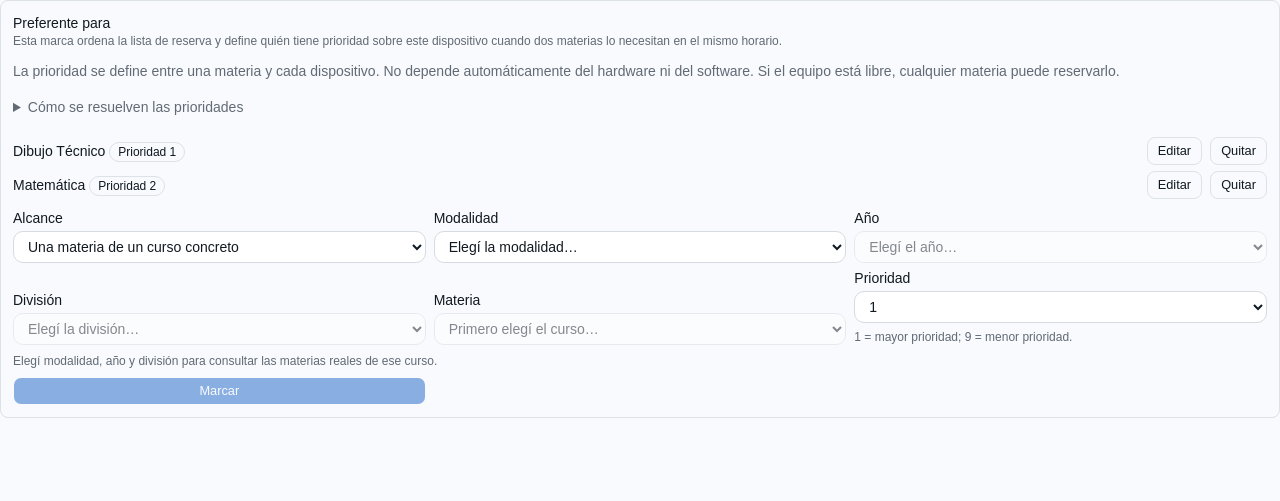
Scenario: PreferenciasDeEquipo › corregir una marca › avisa si al corregir la prioridad queda empatada con otra materia
Click the button "Editar" in the row of "Matemática" at (1174, 185), box [1147,171,1202,199]
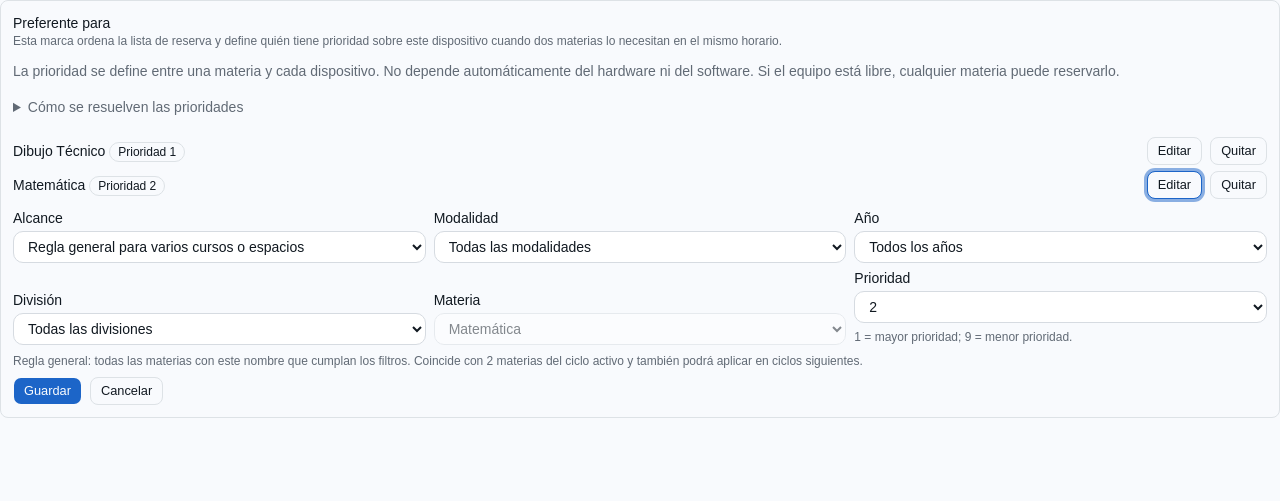
Select "1" in the dropdown labelled "Prioridad" at (1061, 307), box [854,291,1267,323]
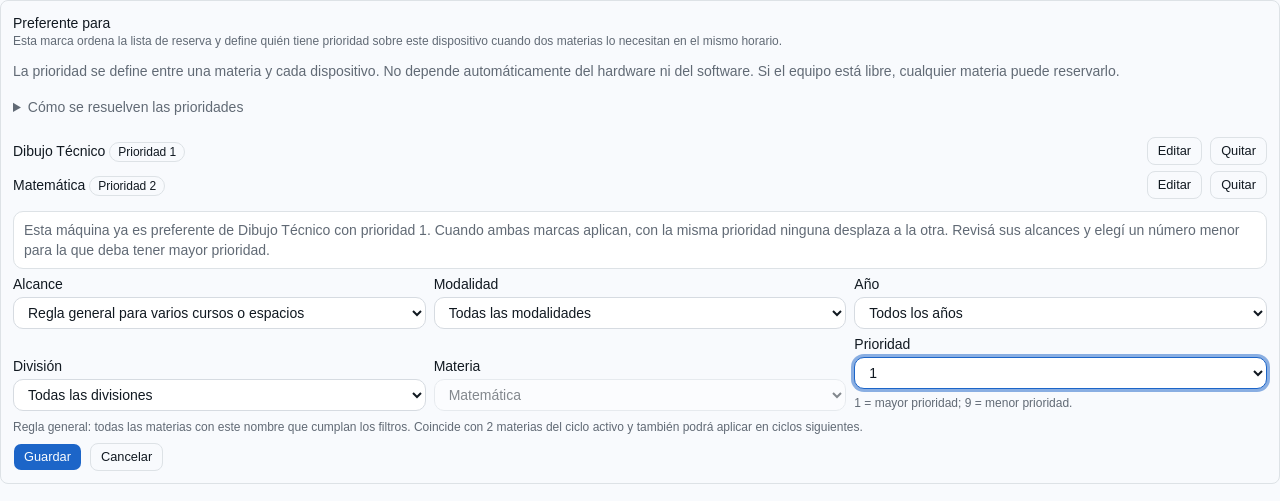
Now the text "ya es preferente de Dibujo Técnico con prioridad 1" is shown, box [24,220,1256,260]
